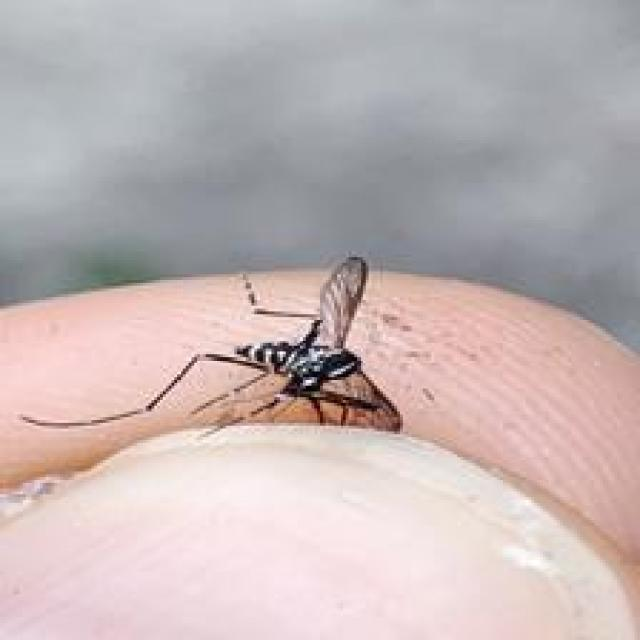Aedes albopictus: (19, 253, 404, 438)
